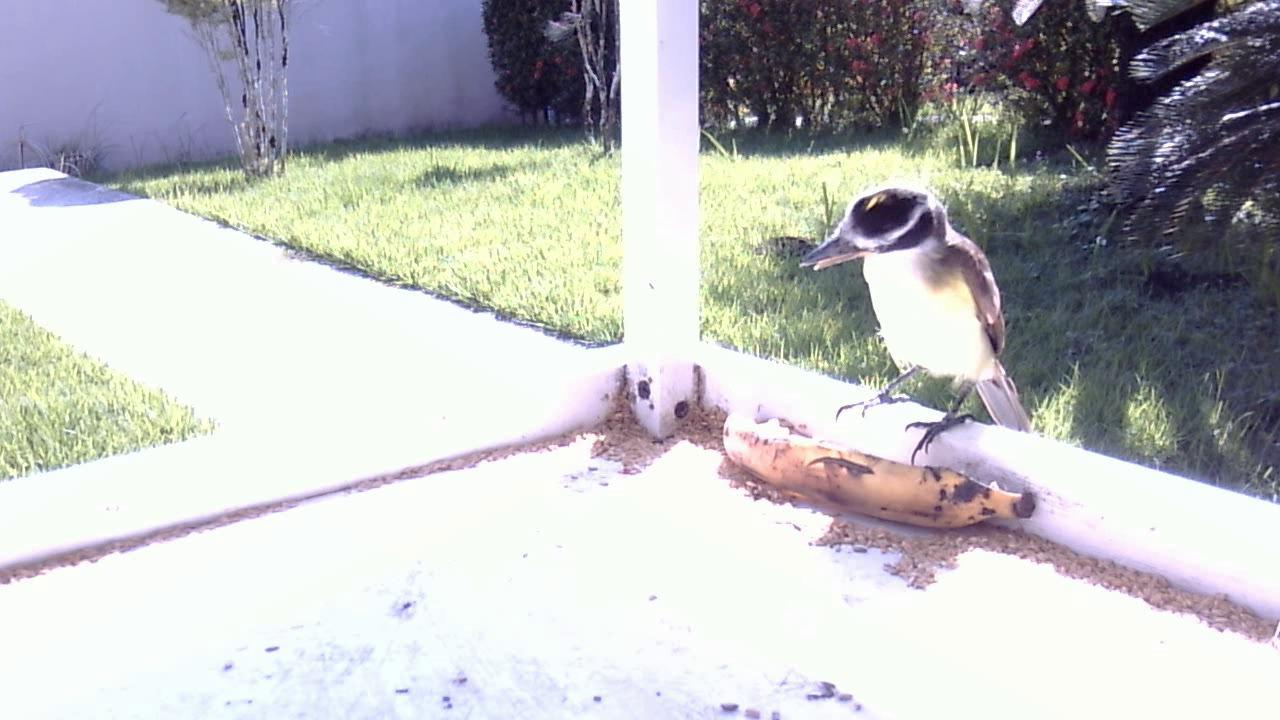bem_te_vi: (785, 175, 1041, 494)
